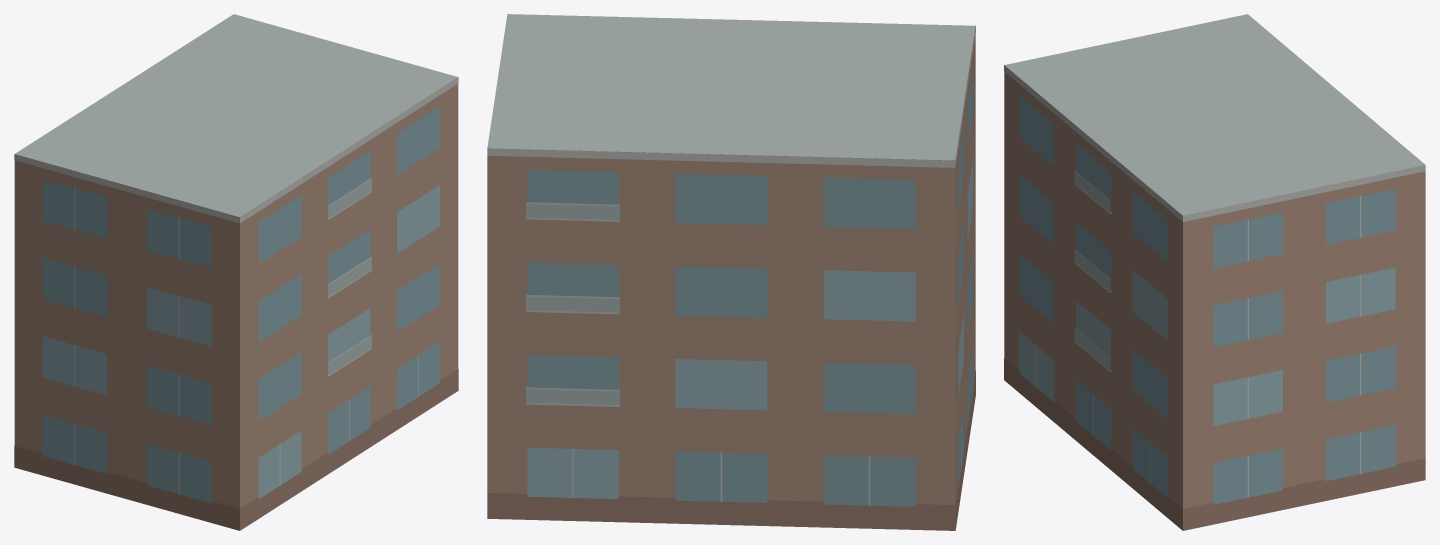
The model's file is survey-upis-32945373.glb.
3 views of the same model, side by side, from view 1: azimuth 30°, elevation 25°; view 2: azimuth 150°, elevation 25°; view 3: azimuth 270°, elevation 25° (orthographic). The views are drawn at different scales.
Visible parts, largest first — view 1: survey-upis-32945373.tmp; view 2: survey-upis-32945373.tmp; view 3: survey-upis-32945373.tmp.
Part boxes in pixels (left/top/right/bottom): survey-upis-32945373.tmp: left=14, top=14, right=458, bottom=530; survey-upis-32945373.tmp: left=487, top=14, right=975, bottom=530; survey-upis-32945373.tmp: left=1004, top=14, right=1425, bottom=530.
Size of the model in its own units: 16.77 by 12.2 by 14.8.
